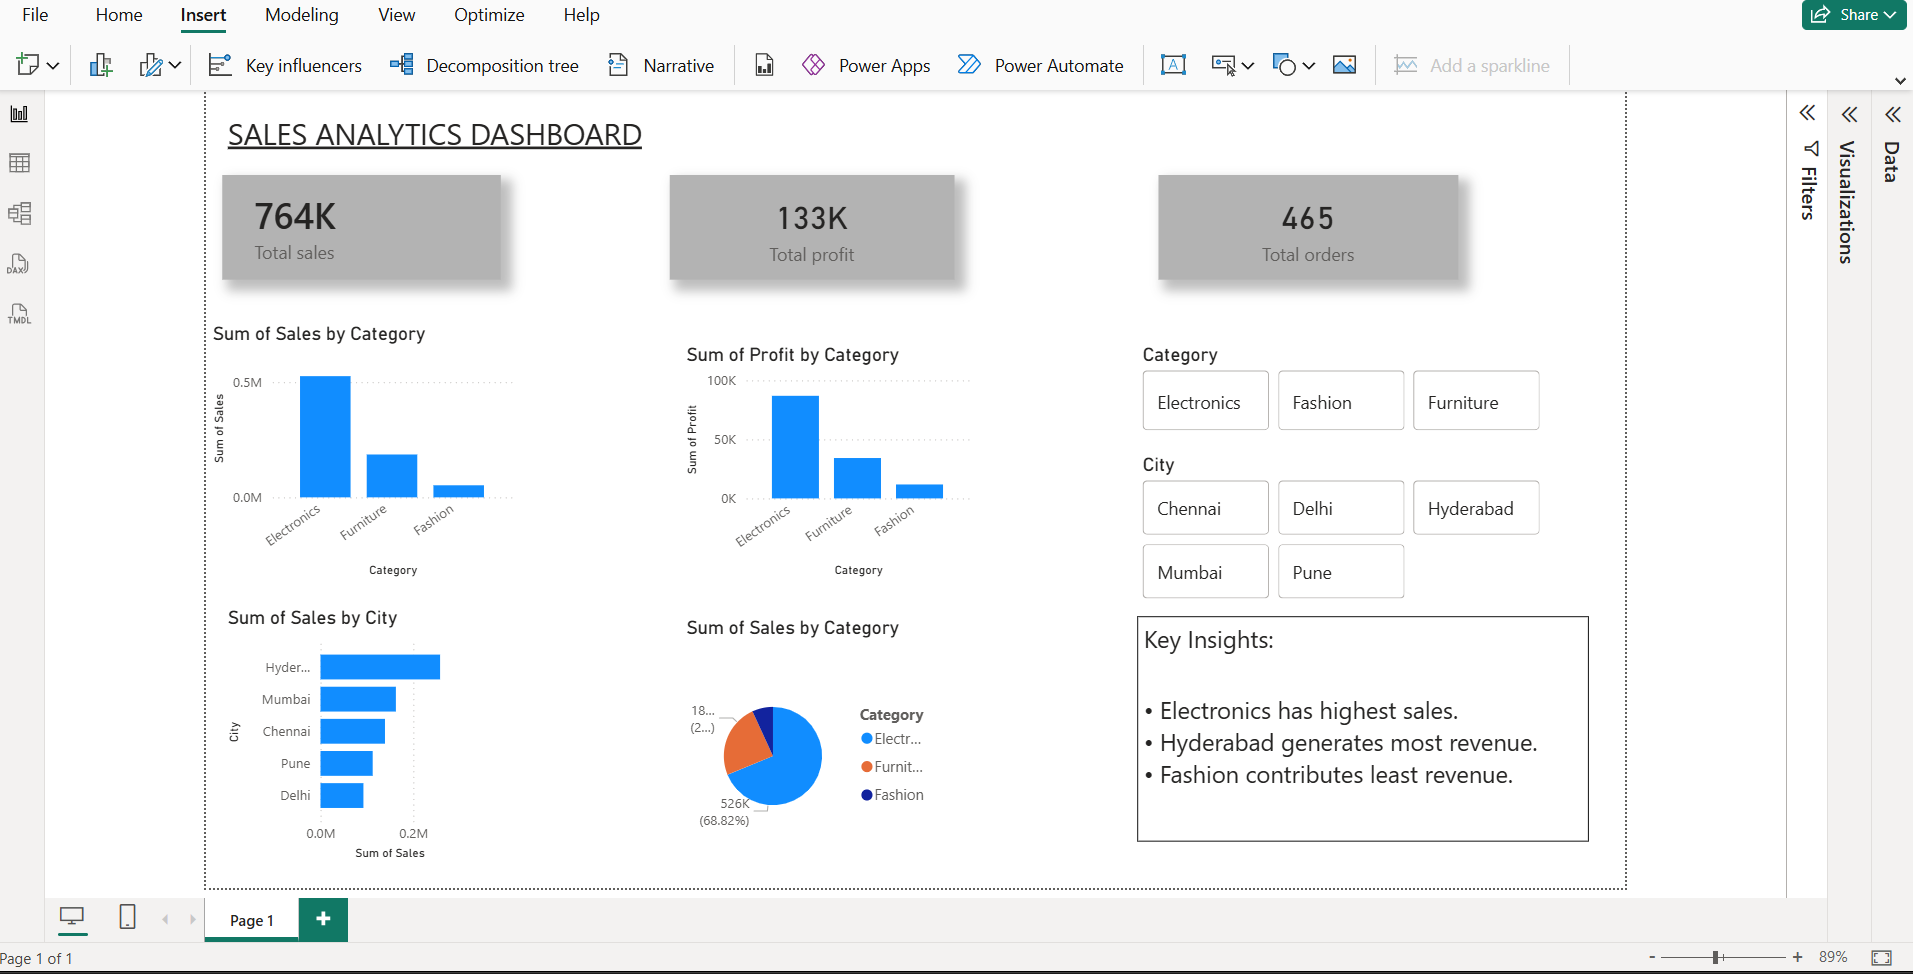

The dashboard page shown, as its layout file describes it:
{"tool":"powerbi","page":{"name":"Page 1","canvas":[1280,720],"ordinal":0},"visuals":[{"type":"cardVisual","fields":{"Data":["Sheet1.Total sales"]},"box":[15.1,76.8,251.1,94.7],"z":0},{"type":"card","fields":{"Values":["Sheet1.Total profit"]},"box":[418.5,76.8,256.6,94.7],"z":1},{"type":"card","fields":{"Values":["Sheet1.Total orders"]},"box":[859,76.8,270.3,94.7],"z":2},{"type":"columnChart","fields":{"Y":["Sum(Sheet1.Sales)"],"Category":["Sheet1.Category"]},"box":[1.4,209.9,281.3,234.6],"z":3},{"type":"columnChart","fields":{"Category":["Sheet1.Category"],"Y":["Sum(Sheet1.Profit)"]},"box":[428.1,229.2,266.2,215.4],"z":4},{"type":"clusteredBarChart","fields":{"Y":["Sum(Sheet1.Sales)"],"Category":["Sheet1.City"]},"box":[15.1,465.2,233.3,233.3],"z":5},{"type":"pieChart","title":"Category Sales Distribution","fields":{"Category":["Sheet1.Category"],"Y":["Sum(Sheet1.Sales)"]},"box":[428.1,474.8,233.3,233.3],"z":6},{"type":"advancedSlicerVisual","fields":{"Values":["Sheet1.Category"]},"box":[839.8,229.2,370.5,83.7],"z":7},{"type":"advancedSlicerVisual","fields":{"Values":["Sheet1.City"]},"box":[839.8,328,370.5,135.8],"z":8},{"type":"textbox","box":[839.8,474.8,407.5,203.1],"z":9},{"type":"textbox","box":[14.7,15.8,452,49.6],"z":10}]}

Visuals, with their boxes on the page's 1280x720 design canvas (x1, y1, x2, y2). These are canvas units, not pixel positions in the 1913x974 screenshot, which may show the page scaled, cropped or inside an application window:
cardVisual - Sheet1.Total sales: <region>15, 77, 266, 172</region>
card - Sheet1.Total profit: <region>418, 77, 675, 172</region>
card - Sheet1.Total orders: <region>859, 77, 1129, 172</region>
columnChart - Sum(Sheet1.Sales) x Sheet1.Category: <region>1, 210, 283, 444</region>
columnChart - Sheet1.Category x Sum(Sheet1.Profit): <region>428, 229, 694, 445</region>
clusteredBarChart - Sum(Sheet1.Sales) x Sheet1.City: <region>15, 465, 248, 698</region>
"Category Sales Distribution" pieChart: <region>428, 475, 661, 708</region>
advancedSlicerVisual - Sheet1.Category: <region>840, 229, 1210, 313</region>
advancedSlicerVisual - Sheet1.City: <region>840, 328, 1210, 464</region>
textbox: <region>840, 475, 1247, 678</region>
textbox: <region>15, 16, 467, 65</region>
